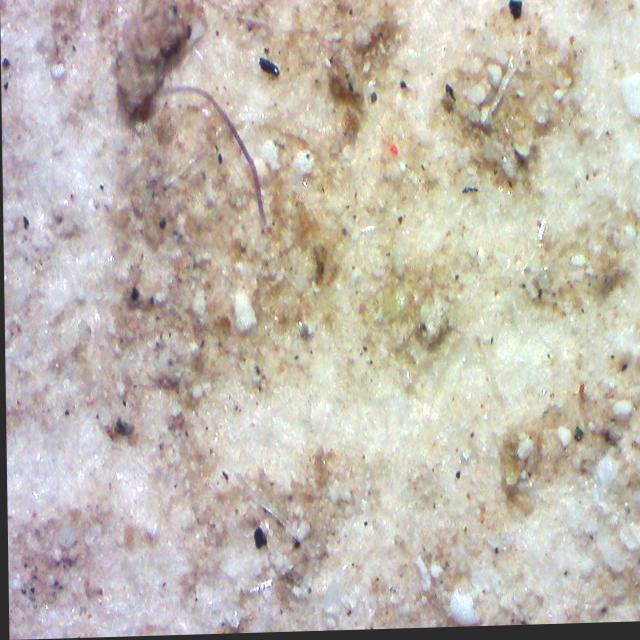microplastic: (161, 88, 265, 227)
